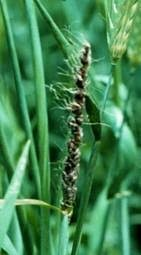Wheat Loose Smut: (60, 46, 96, 206)
